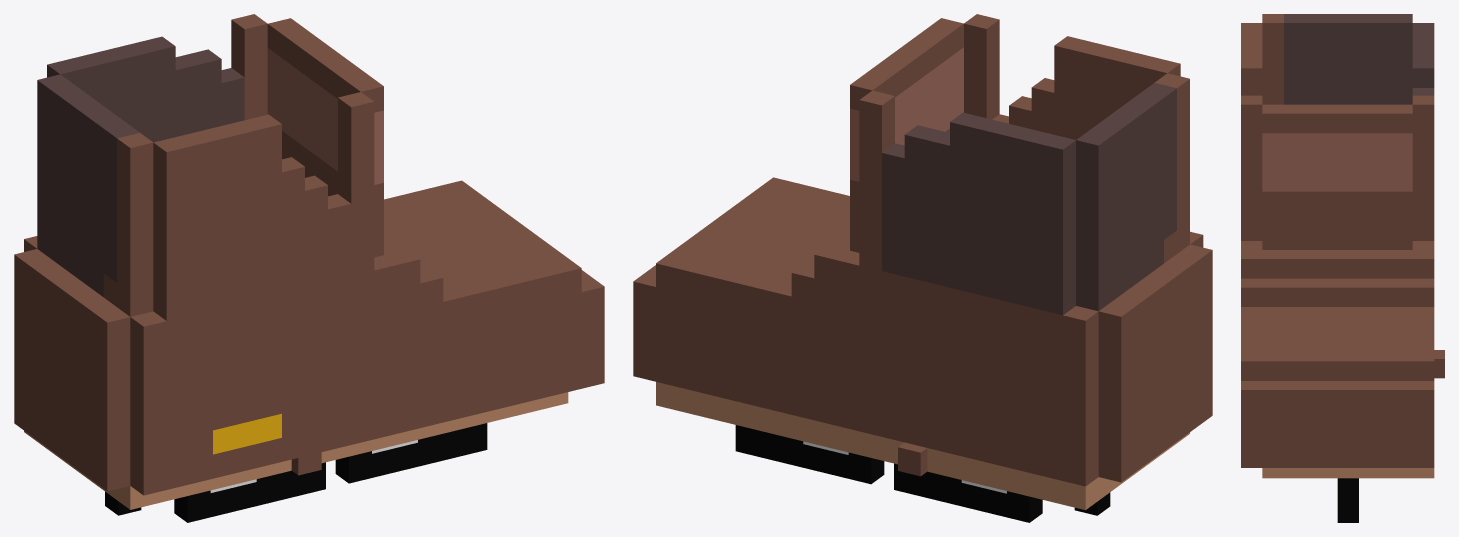
The model's file is boot.glb.
The picture shows the model from 3 angles, left to right: view 1: azimuth 30°, elevation 25°; view 2: azimuth 150°, elevation 25°; view 3: azimuth 270°, elevation 25°; orthographic projection. The views are drawn at different scales.
Visible parts, largest first — view 1: base, glasses, semelle, mouth; view 2: base, semelle, glasses, fa; view 3: base, semelle, glasses, fa.
Part boxes in pixels (left/top/right/bottom): base: left=14, top=14, right=604, bottom=495; glasses: left=105, top=423, right=487, bottom=522; semelle: left=24, top=392, right=568, bottom=509; mouth: left=213, top=413, right=281, bottom=454; base: left=633, top=14, right=1212, bottom=486; semelle: left=656, top=382, right=1189, bottom=509; glasses: left=735, top=425, right=1110, bottom=522; fa: left=898, top=442, right=927, bottom=476; base: left=1241, top=14, right=1434, bottom=467; semelle: left=1262, top=468, right=1434, bottom=478; glasses: left=1337, top=478, right=1358, bottom=522; fa: left=1434, top=350, right=1444, bottom=378.
Bounding box in the file's own units: 21 × 18 × 9.5.
Materials: 13 (13 with a texture image).
